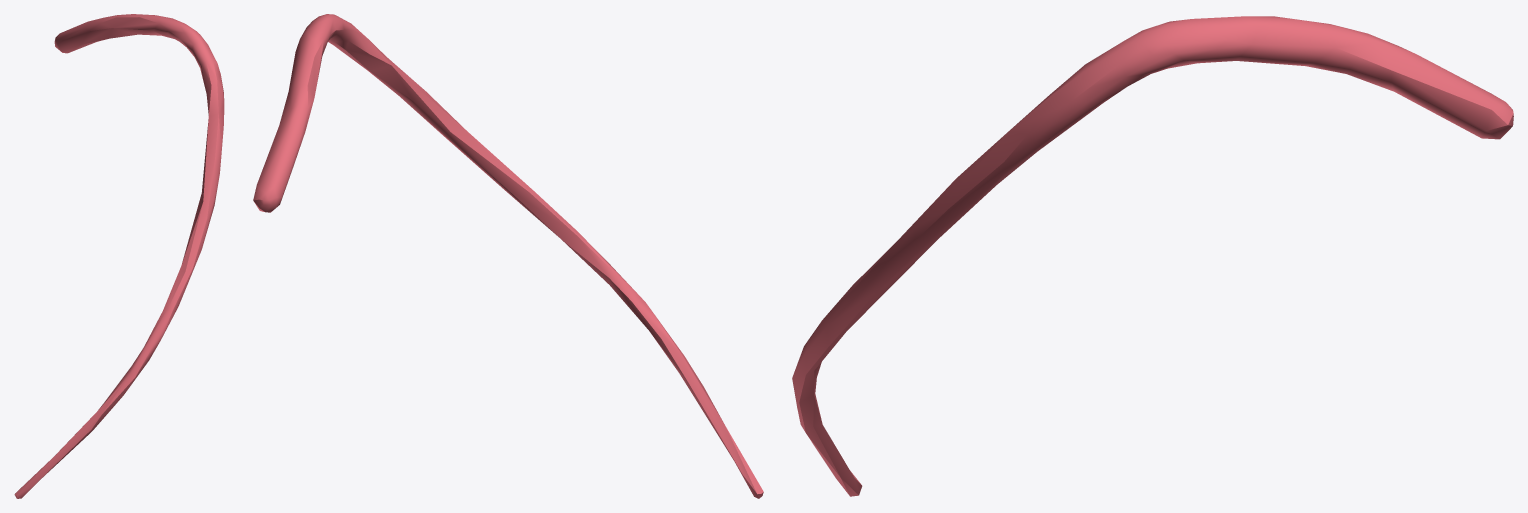
The model's file is fma50381_fj1712m.glb.
The picture shows the model from 3 angles, left to right: view 1: azimuth 30°, elevation 25°; view 2: azimuth 150°, elevation 25°; view 3: azimuth 270°, elevation 25°; orthographic projection. The views are drawn at different scales.
Visible parts, largest first — view 1: FMA50381_FJ1712M; view 2: FMA50381_FJ1712M; view 3: FMA50381_FJ1712M.
Boxes of the visible parts, x1,y1,x2,y2 form: FMA50381_FJ1712M: (14, 14, 224, 498); FMA50381_FJ1712M: (253, 14, 763, 498); FMA50381_FJ1712M: (792, 16, 1513, 496).
Bounding box in the file's own units: 0.0205 × 0.0266 × 0.0244.
